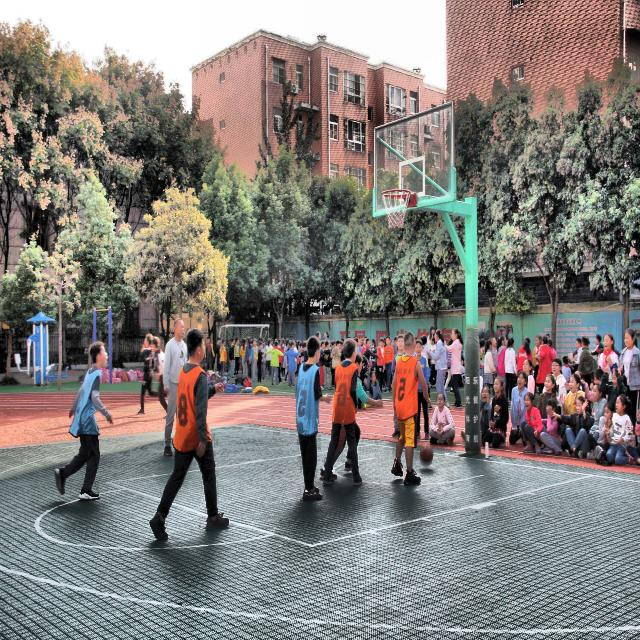board: (418, 442, 436, 467)
rim: (381, 188, 410, 229)
